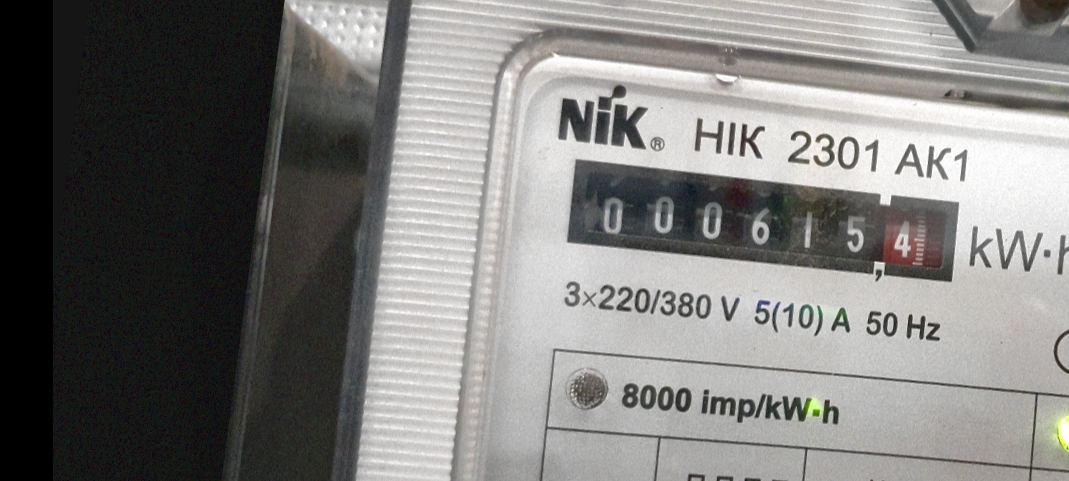0: (696, 197, 726, 242), (597, 192, 628, 235), (649, 192, 677, 234)
1: (799, 207, 817, 250)
4: (890, 216, 915, 258)
5: (841, 210, 869, 255)
6: (746, 202, 775, 246)
screen: (549, 138, 976, 305)
